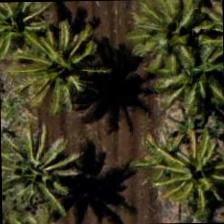Kelapa_Sawit: (17, 25, 108, 117), (125, 0, 217, 84), (0, 121, 80, 212), (144, 33, 223, 125), (148, 127, 223, 219), (0, 1, 57, 76)
